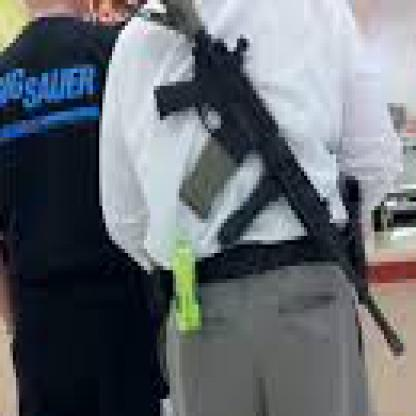gun: (67, 43, 413, 412)
